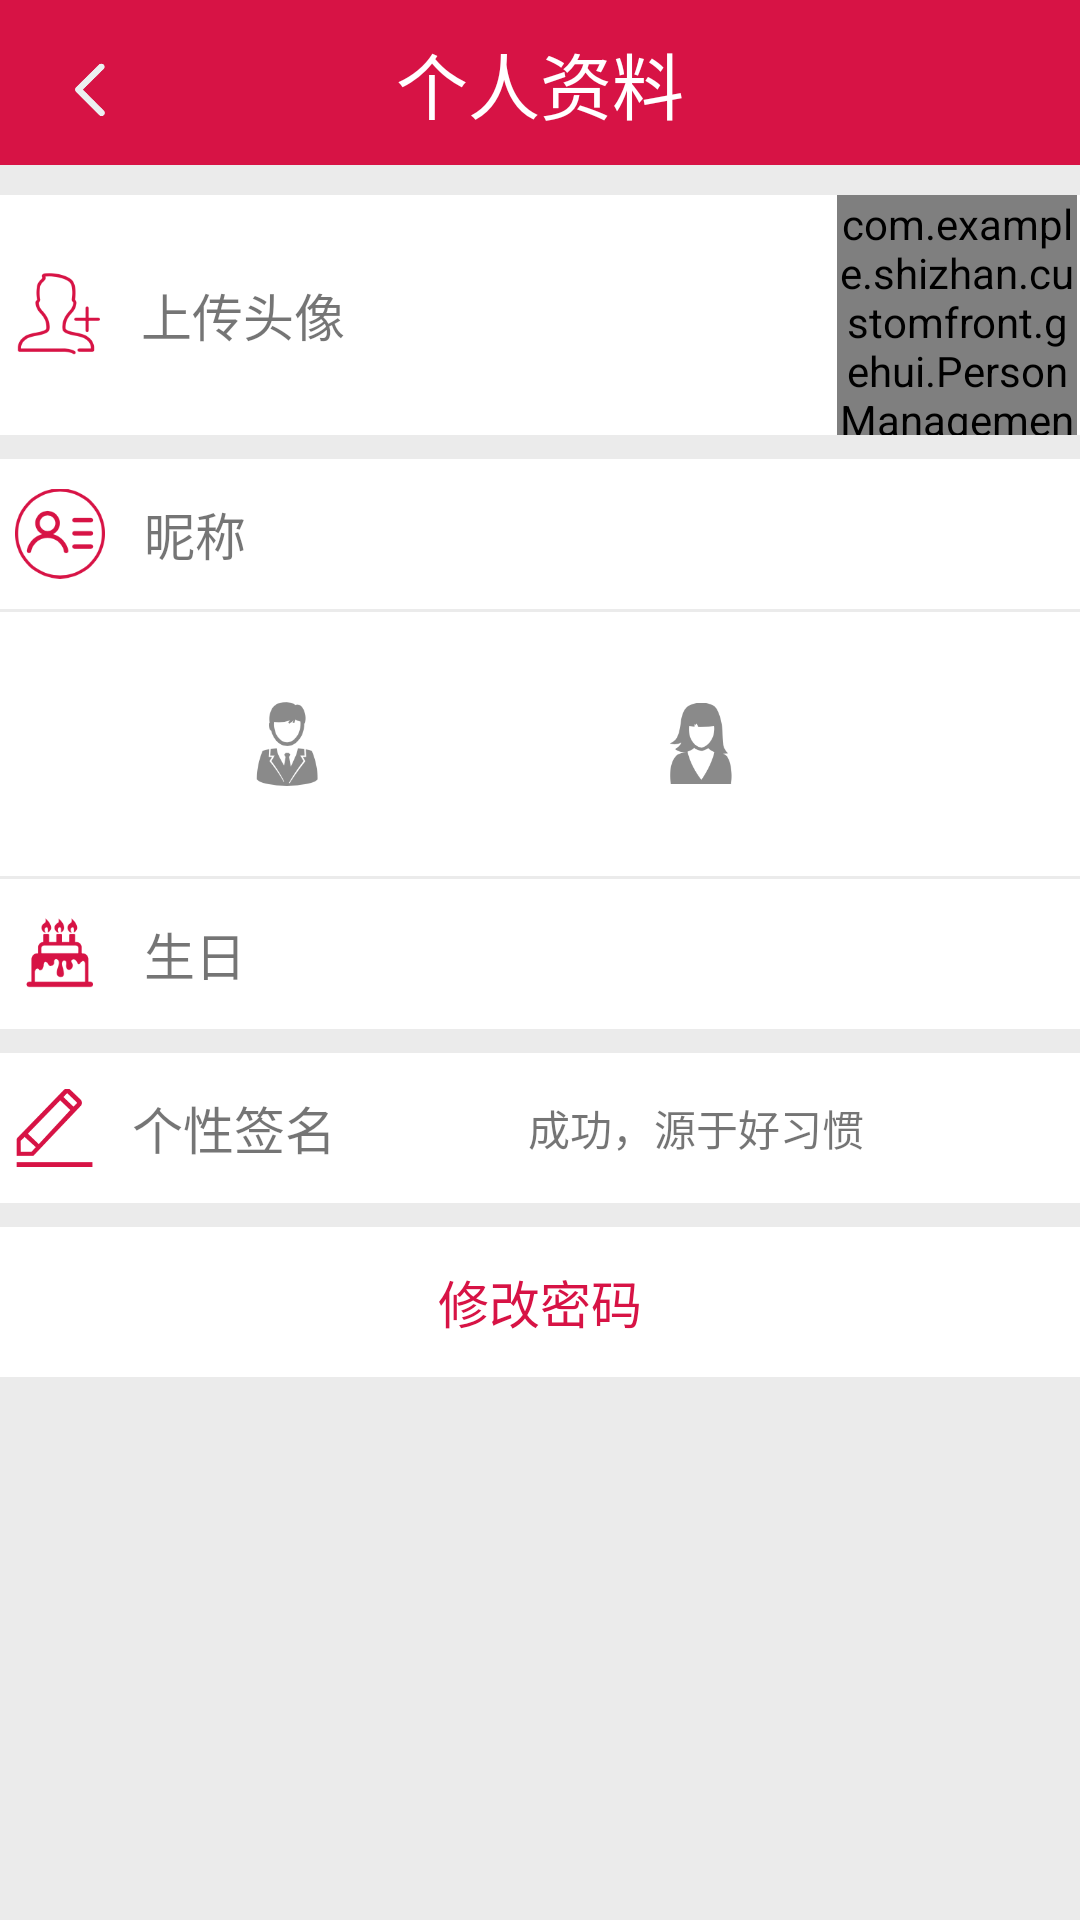

Where to tap for icons on this 1080*1920 app screen, as point (x, y):
back: point (90, 89)
birthday: point (59, 952)
boy: point (287, 744)
girl: point (701, 743)
nickname: point (60, 534)
sign: point (54, 1128)
